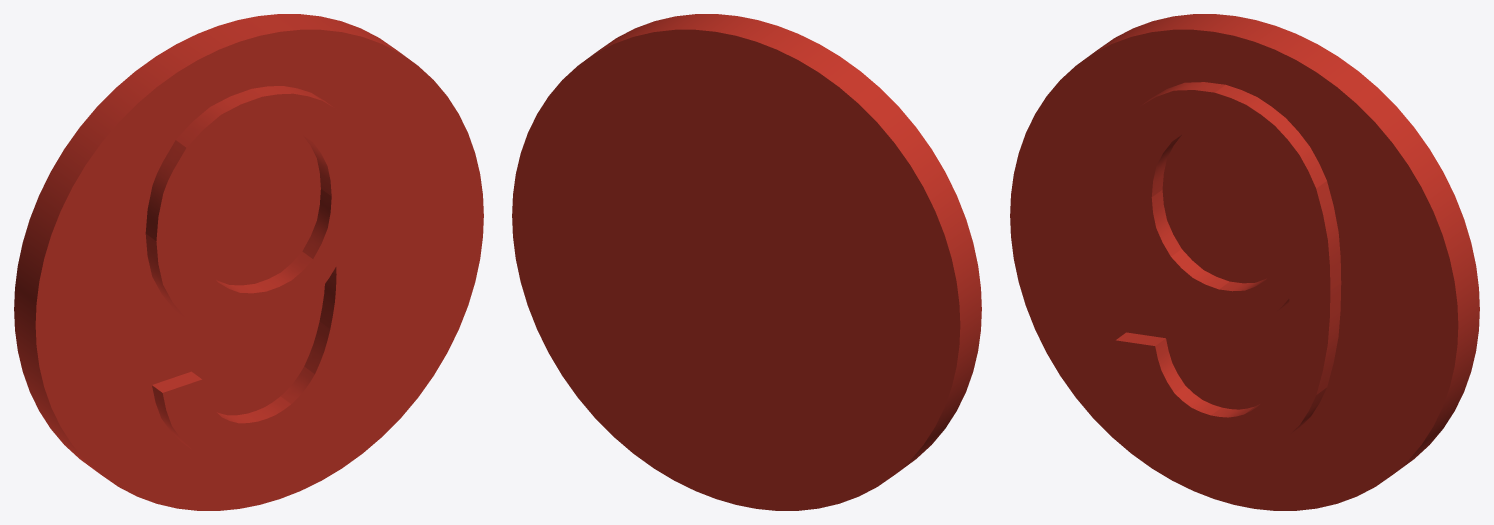
The model's file is disk9.fbx.
3 views of the same model, side by side, from view 1: azimuth 30°, elevation 25°; view 2: azimuth 150°, elevation 25°; view 3: azimuth 330°, elevation 25° (orthographic).
Parts seen in each view (by area): view 1: Body1; view 2: Body1; view 3: Body1.
Boxes of the visible parts, left/top/right/bottom form: Body1: left=14, top=14, right=483, bottom=510; Body1: left=512, top=14, right=981, bottom=510; Body1: left=1010, top=14, right=1479, bottom=510.
Bounding box in the file's own units: 1200 × 1200 × 150.
